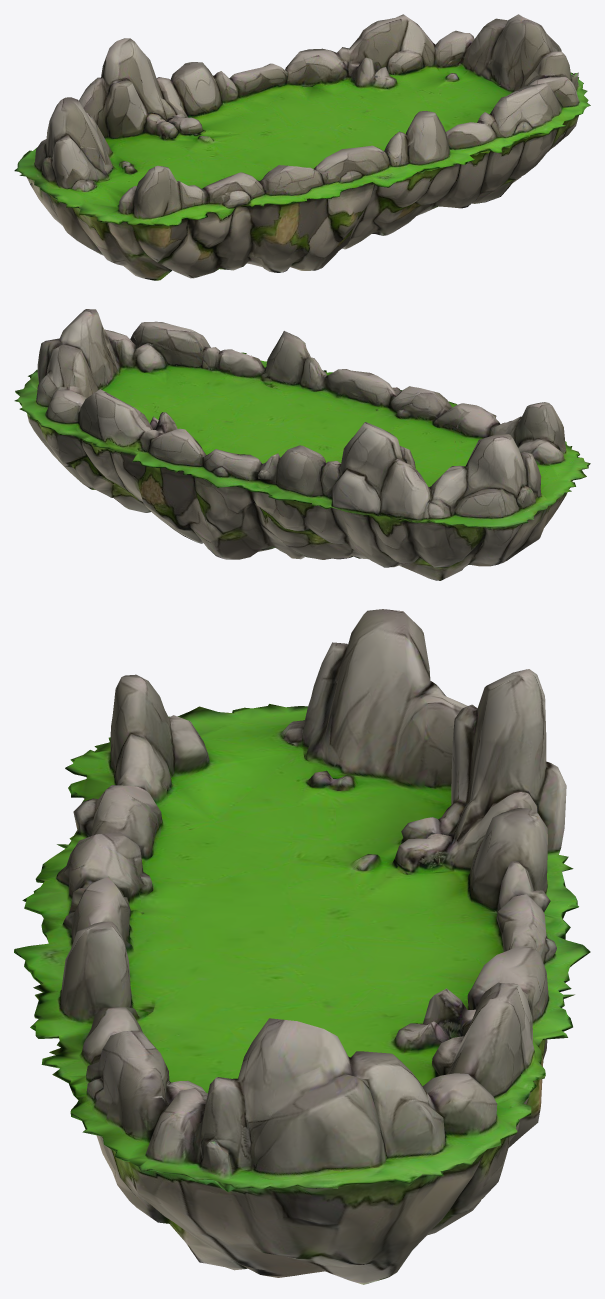
File: Rocky_Island_Plateau.glb
3 views of the same model, one above another, from view 1: azimuth 30°, elevation 25°; view 2: azimuth 150°, elevation 25°; view 3: azimuth 270°, elevation 25° (orthographic). The views are drawn at different scales.
Visible parts, largest first — view 1: Rocky_Island_Plateau; view 2: Rocky_Island_Plateau; view 3: Rocky_Island_Plateau.
Boxes of the visible parts, x1,y1,x2,y2 form: Rocky_Island_Plateau: (14, 14, 590, 280); Rocky_Island_Plateau: (14, 309, 590, 580); Rocky_Island_Plateau: (14, 609, 590, 1284).
Size of the model in its own units: 1.91 by 0.6703 by 0.959.
Materials: 1 (1 with a texture image).
